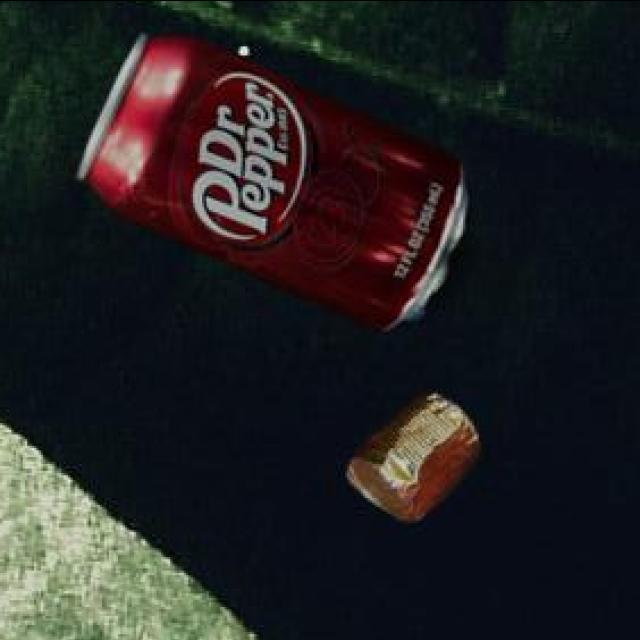logam: (74, 37, 464, 332), (344, 396, 473, 523)
